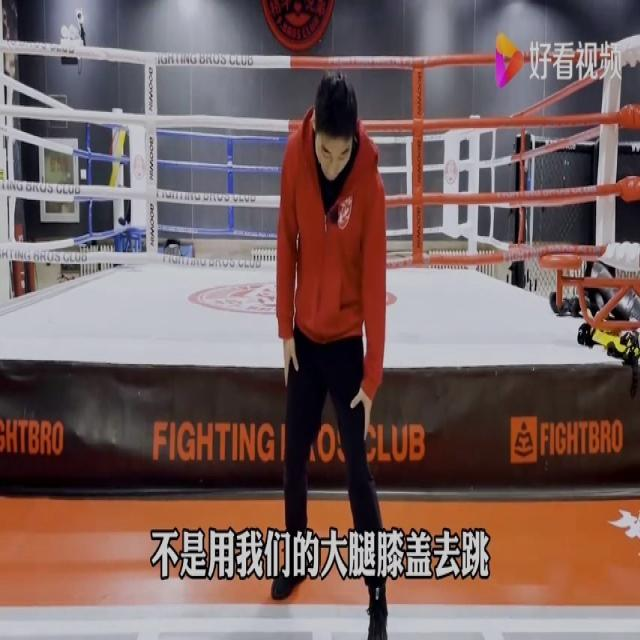fight: (274, 73, 388, 640)
